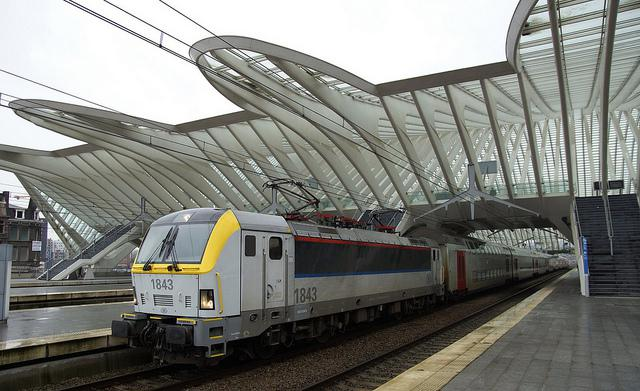Train: (112, 209, 561, 368)
